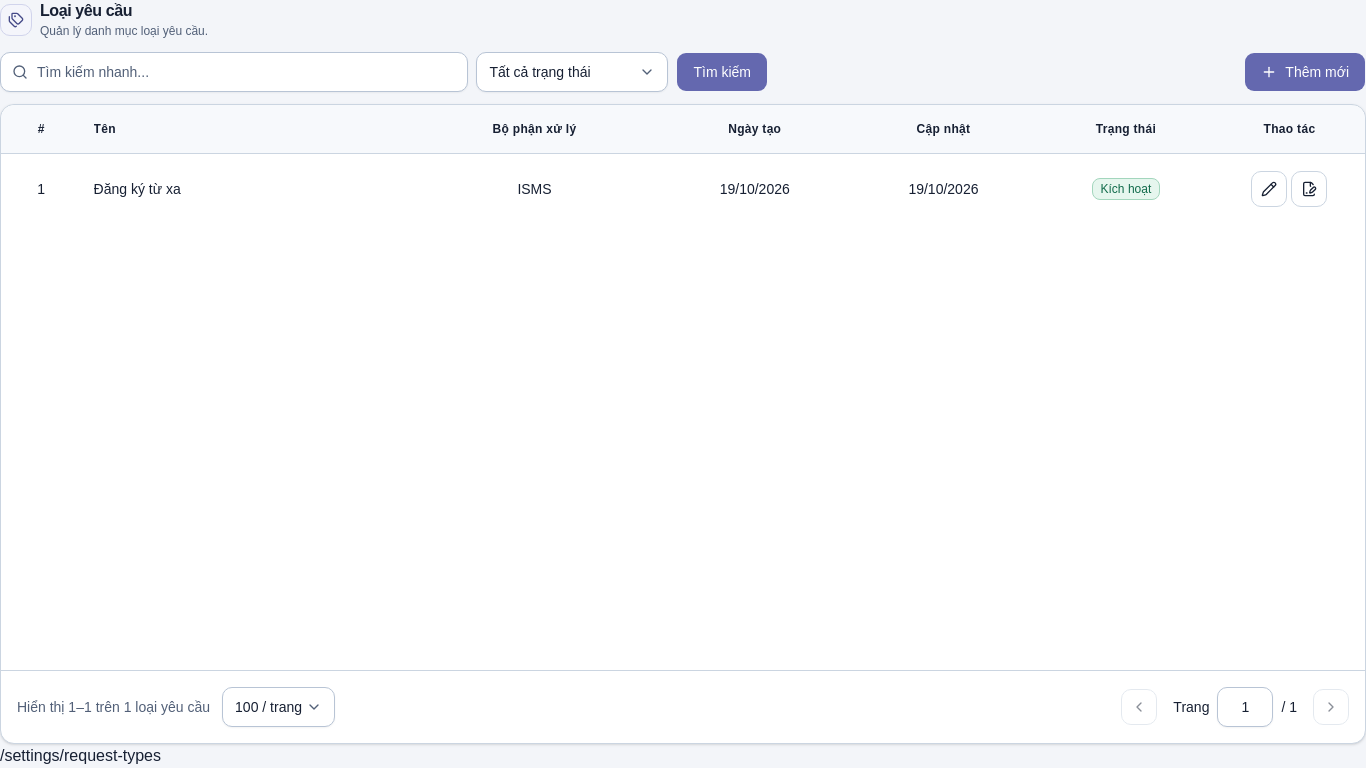
it: creates request-types with the V2 write contract
This screenshot has width=1366, height=768.
Expected: the table named "Bảng cấu hình" is shown, x1=1 y1=105 x2=1365 y2=225
Click the button "Thêm mới": (1305, 72) x1=1244 y1=52 x2=1365 y2=92
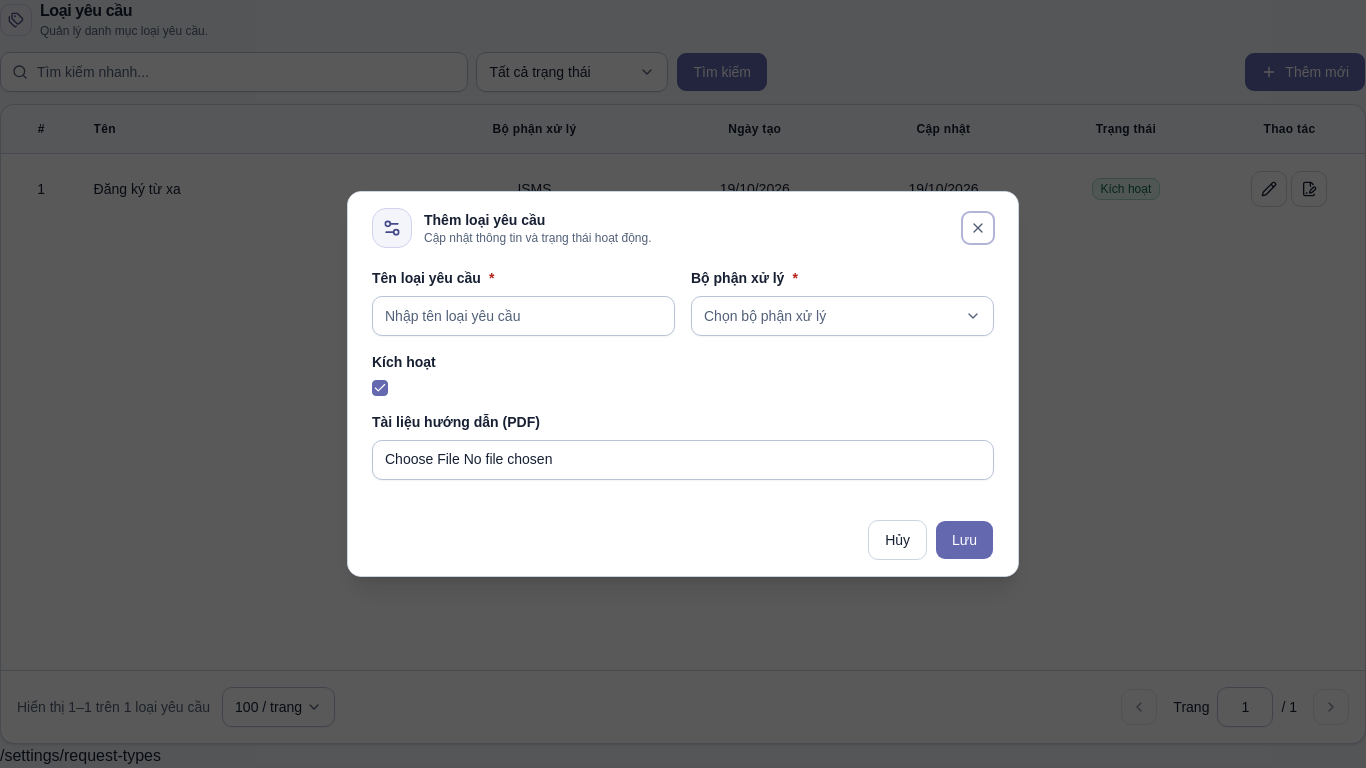
Result: the button "Lưu" is enabled at x1=935 y1=520 x2=994 y2=560
In the field labelled "Tên loại yêu cầu *": (524, 316) x1=372 y1=296 x2=675 y2=336, type "Tên mới"
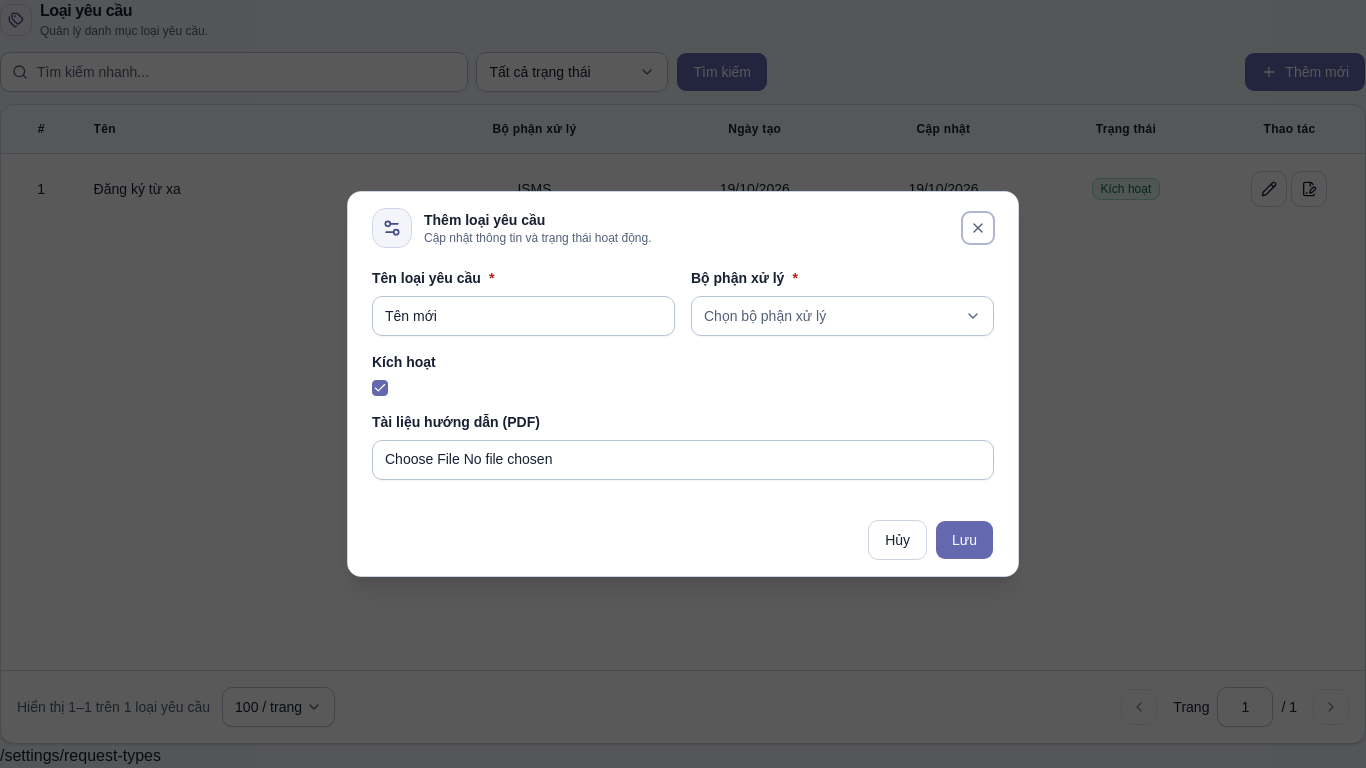
Click the dropdown labelled "bộ phận xử lý": (765, 316) x1=691 y1=296 x2=994 y2=336
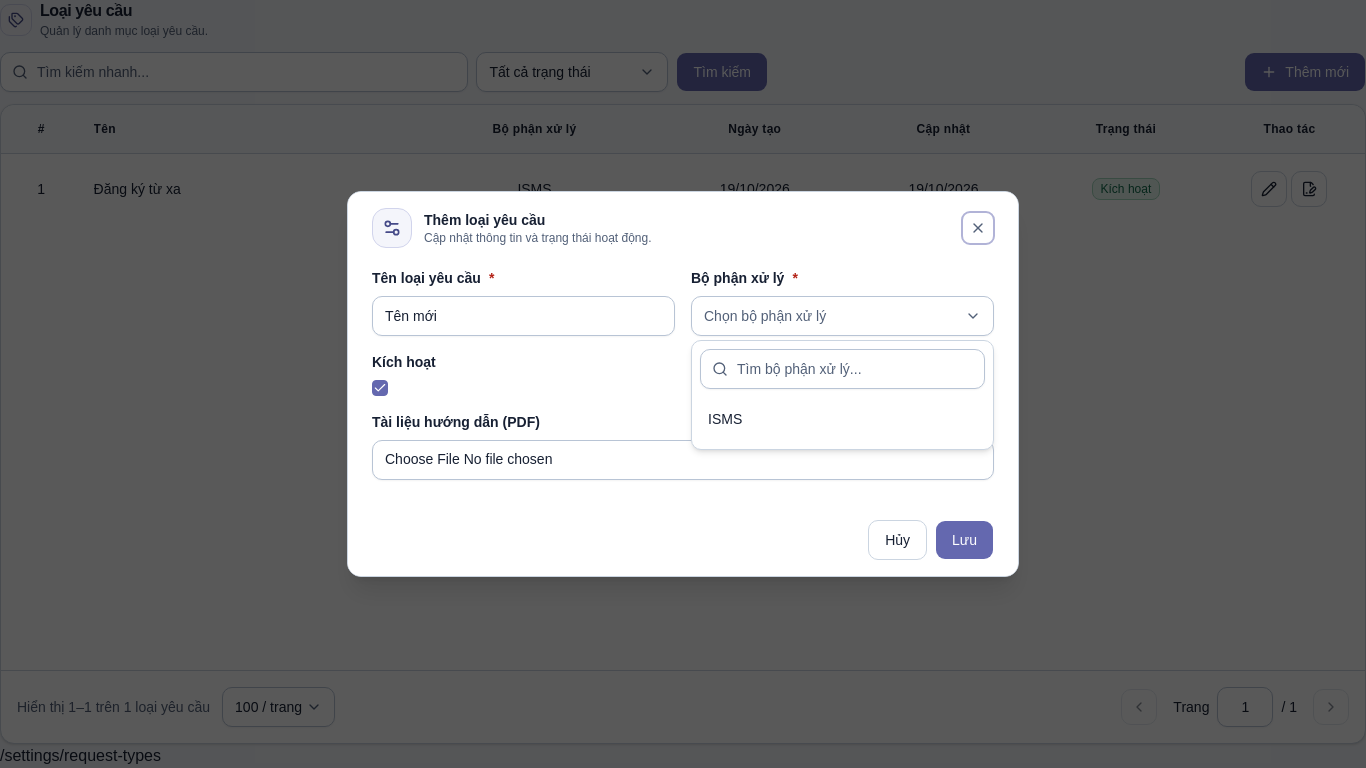
Click the option "ISMS": (725, 419) x1=708 y1=411 x2=742 y2=427
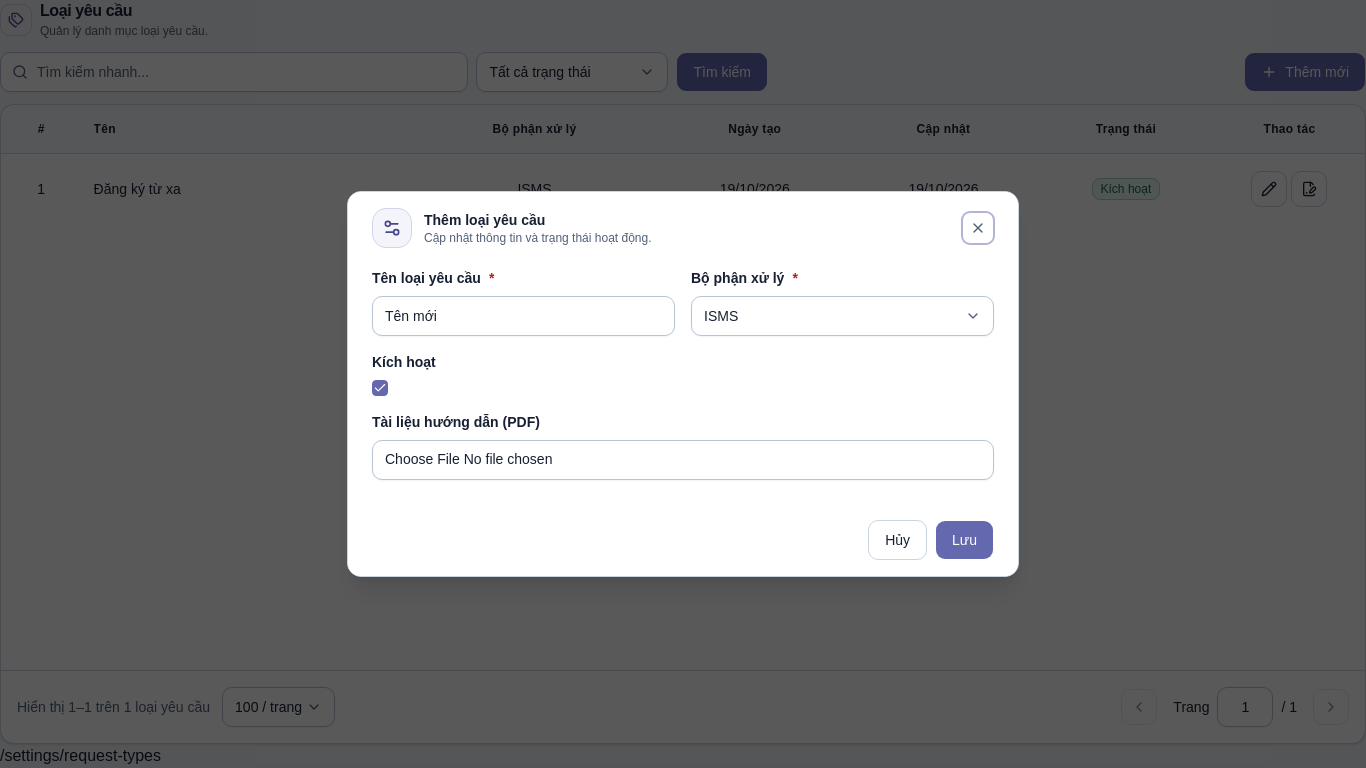
Result: the list is gone
Click the button "Lưu": (964, 540) x1=935 y1=520 x2=994 y2=560
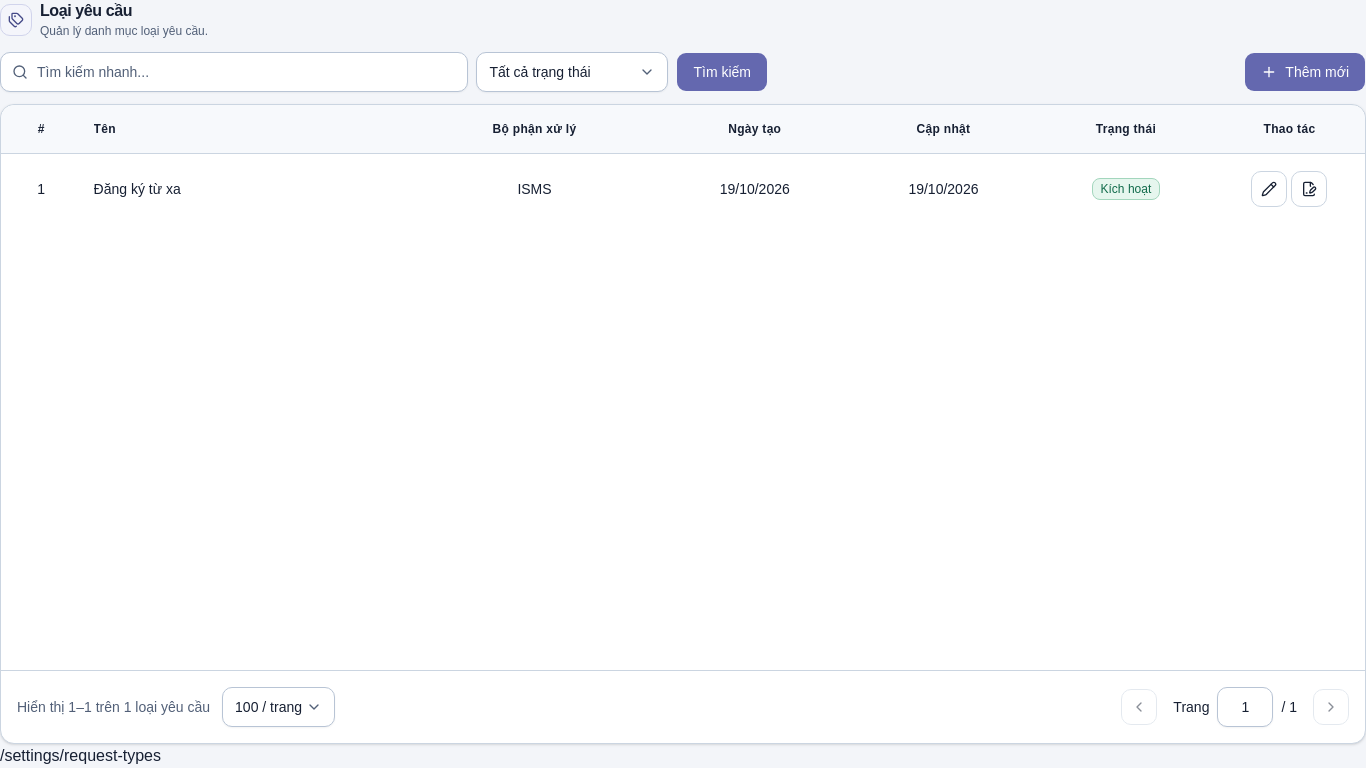
Result: the dialog is gone
